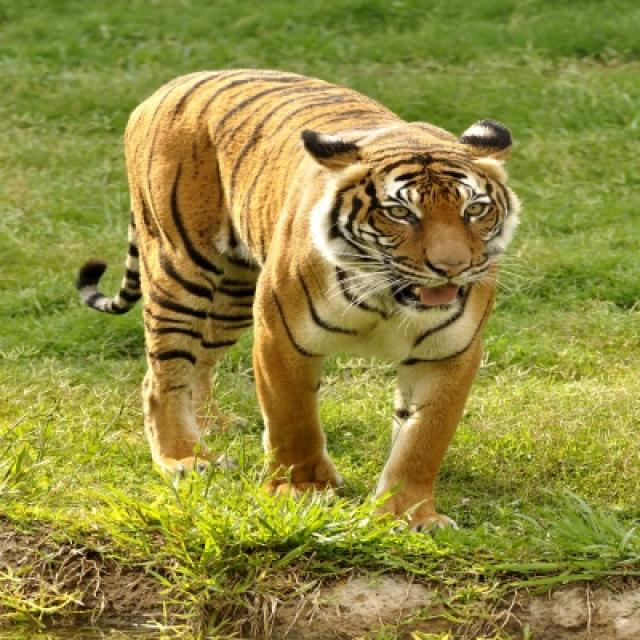Tiger: (77, 67, 521, 533)
